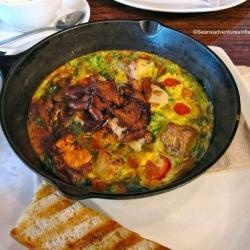bread: (10, 189, 168, 250)
